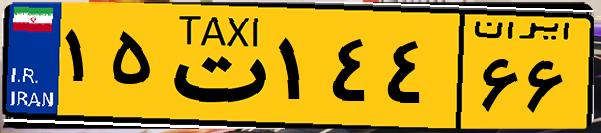1: (270, 28, 330, 110), (57, 26, 110, 100)
4: (385, 28, 445, 110), (330, 28, 385, 110)
5: (110, 28, 158, 98)
6: (475, 38, 525, 113), (525, 38, 570, 115)
ت: (158, 12, 270, 120)
